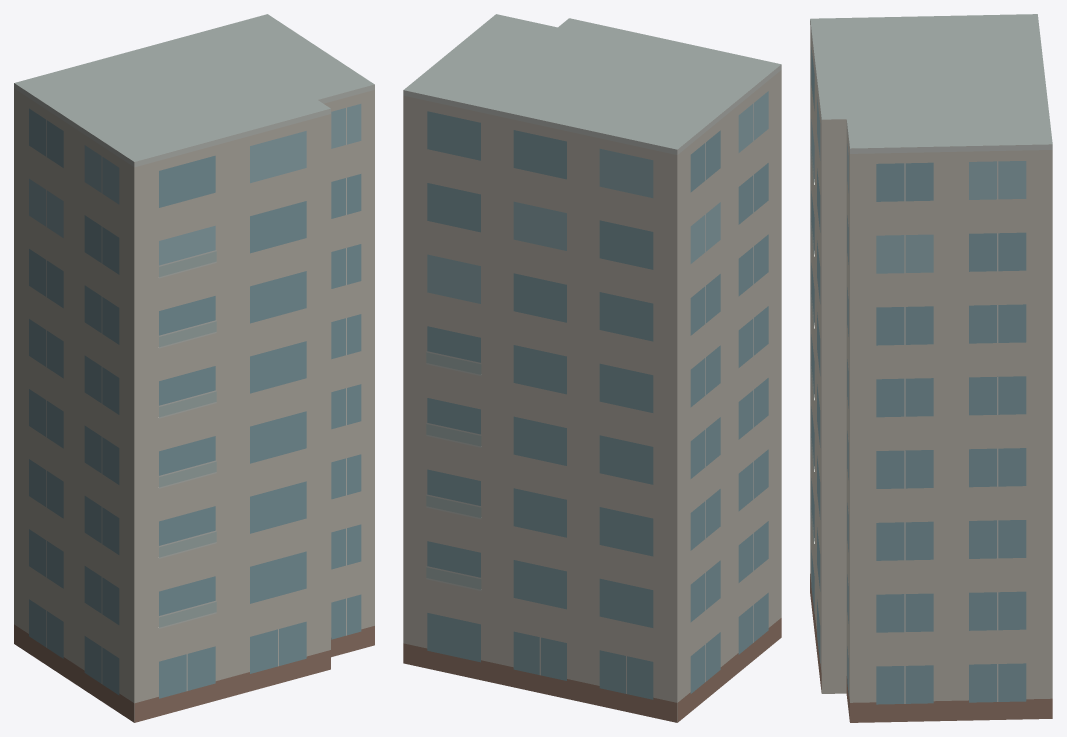
The model's file is survey-upis-32633810.glb.
The picture shows the model from 3 angles, left to right: view 1: azimuth 30°, elevation 25°; view 2: azimuth 150°, elevation 25°; view 3: azimuth 270°, elevation 25°; orthographic projection. The views are drawn at different scales.
Visible parts, largest first — view 1: survey-upis-32633810.tmp; view 2: survey-upis-32633810.tmp; view 3: survey-upis-32633810.tmp.
Part boxes in pixels (box(x1,y1,x2,y2)): survey-upis-32633810.tmp: box(14, 14, 374, 722); survey-upis-32633810.tmp: box(403, 14, 781, 722); survey-upis-32633810.tmp: box(810, 14, 1052, 722).
Bounding box in the file's own units: 12.81 × 25.5 × 9.77.
